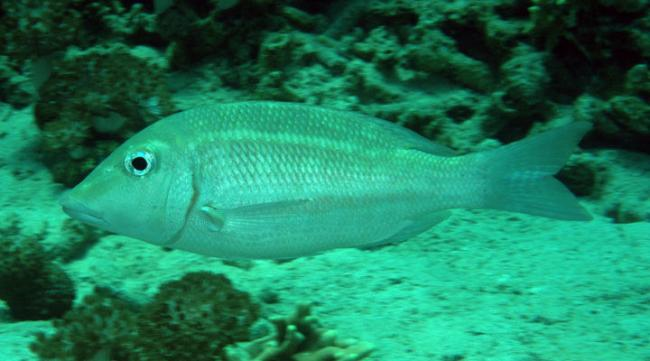fish: (58, 99, 595, 258)
